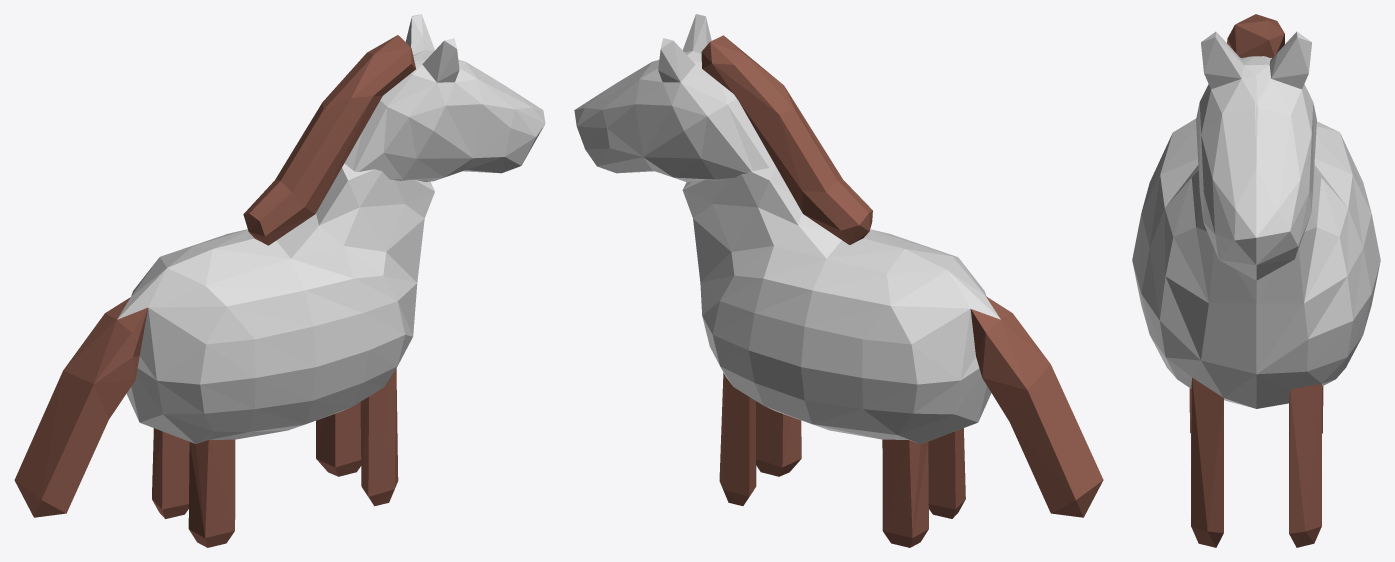
The model's file is horse4.glb.
3 views of the same model, side by side, from view 1: azimuth 30°, elevation 25°; view 2: azimuth 150°, elevation 25°; view 3: azimuth 270°, elevation 25° (orthographic). The views are drawn at different scales.
Parts seen in each view (by area): view 1: shenti, bingmao; view 2: shenti, bingmao; view 3: shenti, bingmao.
Part boxes in pixels (x1,y1,x2,y2): shenti: (14, 14, 545, 547); bingmao: (243, 35, 415, 245); shenti: (574, 14, 1103, 547); bingmao: (701, 35, 872, 244); shenti: (1132, 31, 1380, 547); bingmao: (1227, 14, 1284, 57).
Size of the model in its own units: 2.69 by 2.2 by 0.9015.
